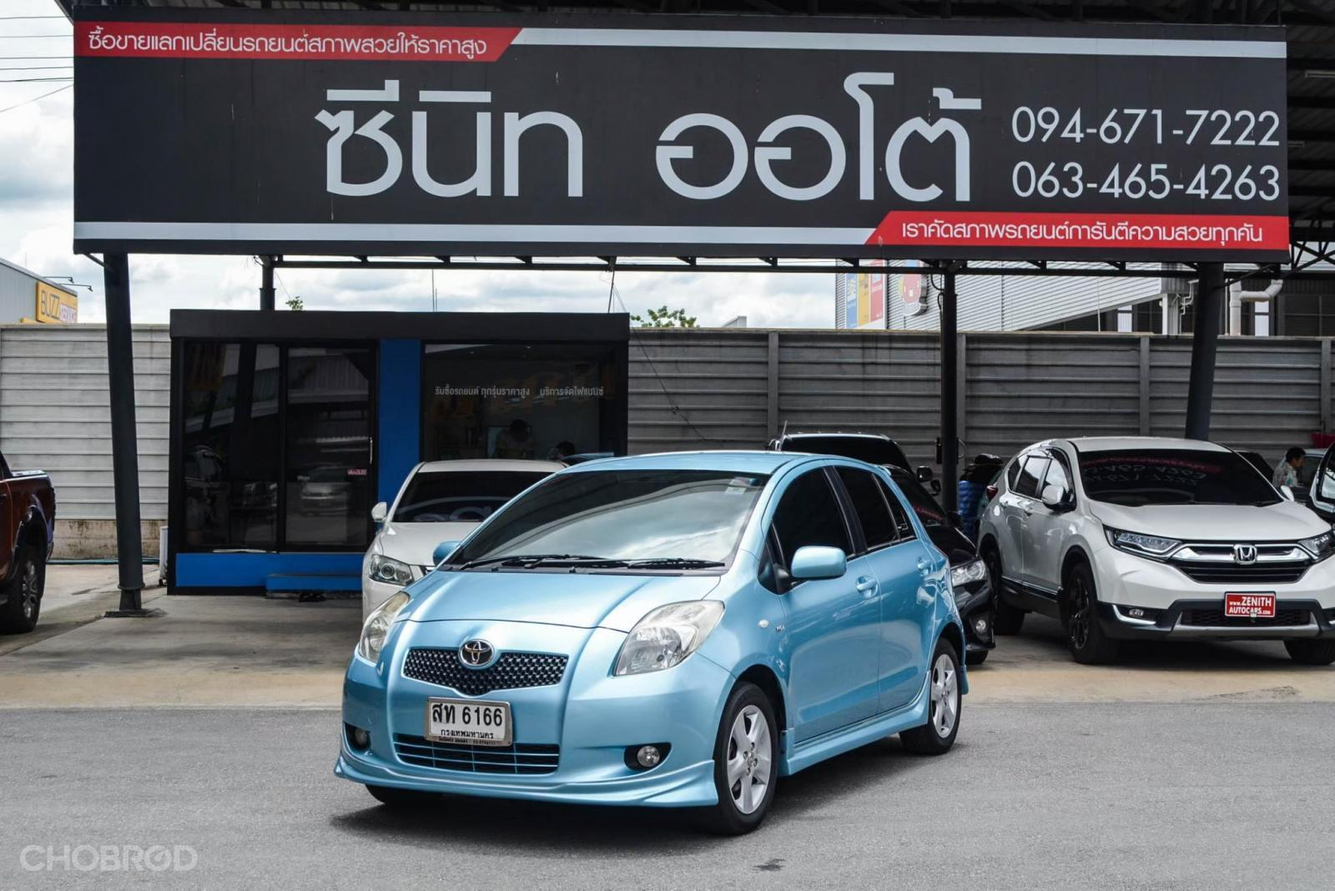license-plate: (425, 697, 516, 746), (1224, 591, 1281, 620)
